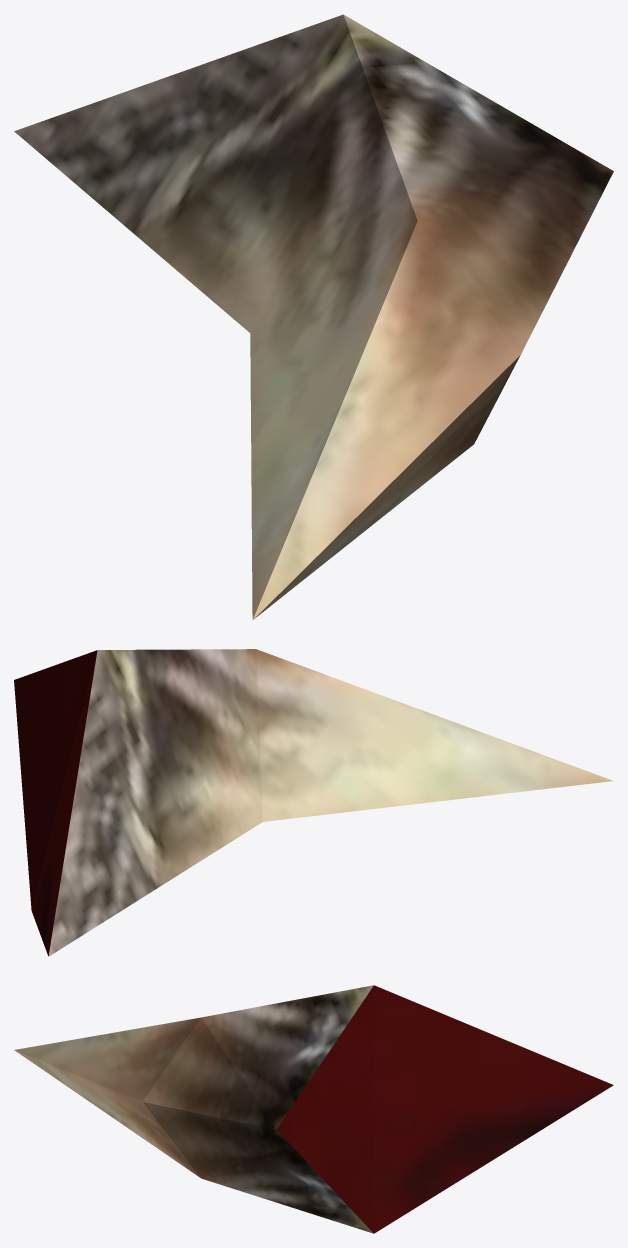
Rendered from ITAT_SHADOWHORN.glb.
The picture shows the model from 3 angles, top to bottom: view 1: azimuth 30°, elevation 25°; view 2: azimuth 150°, elevation 25°; view 3: azimuth 270°, elevation 25°; orthographic projection. The views are drawn at different scales.
Parts seen in each view (by area): view 1: ITAT_SHADOWHORN; view 2: ITAT_SHADOWHORN; view 3: ITAT_SHADOWHORN.
Part boxes in pixels (left/top/right/bottom): ITAT_SHADOWHORN: left=14, top=14, right=613, bottom=619; ITAT_SHADOWHORN: left=14, top=649, right=612, bottom=956; ITAT_SHADOWHORN: left=14, top=985, right=613, bottom=1233.
Bounding box in the file's own units: 0.3696 × 0.224 × 0.5467.
Materials: 1 (1 with a texture image).
